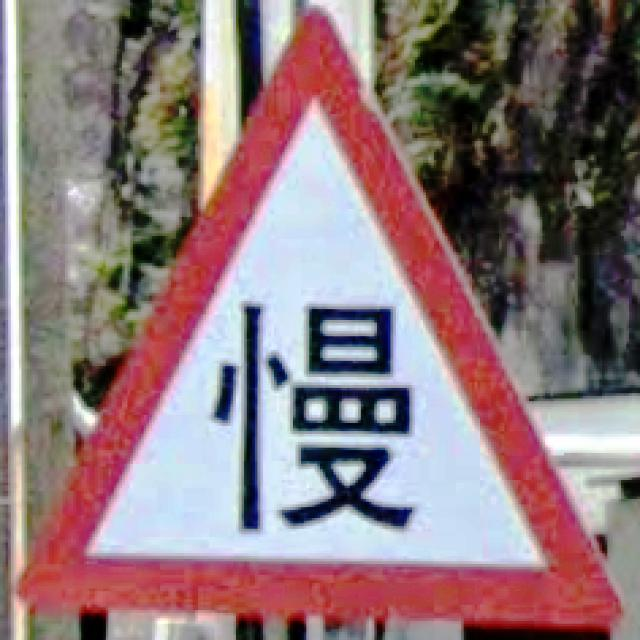slow: (16, 8, 625, 624)
